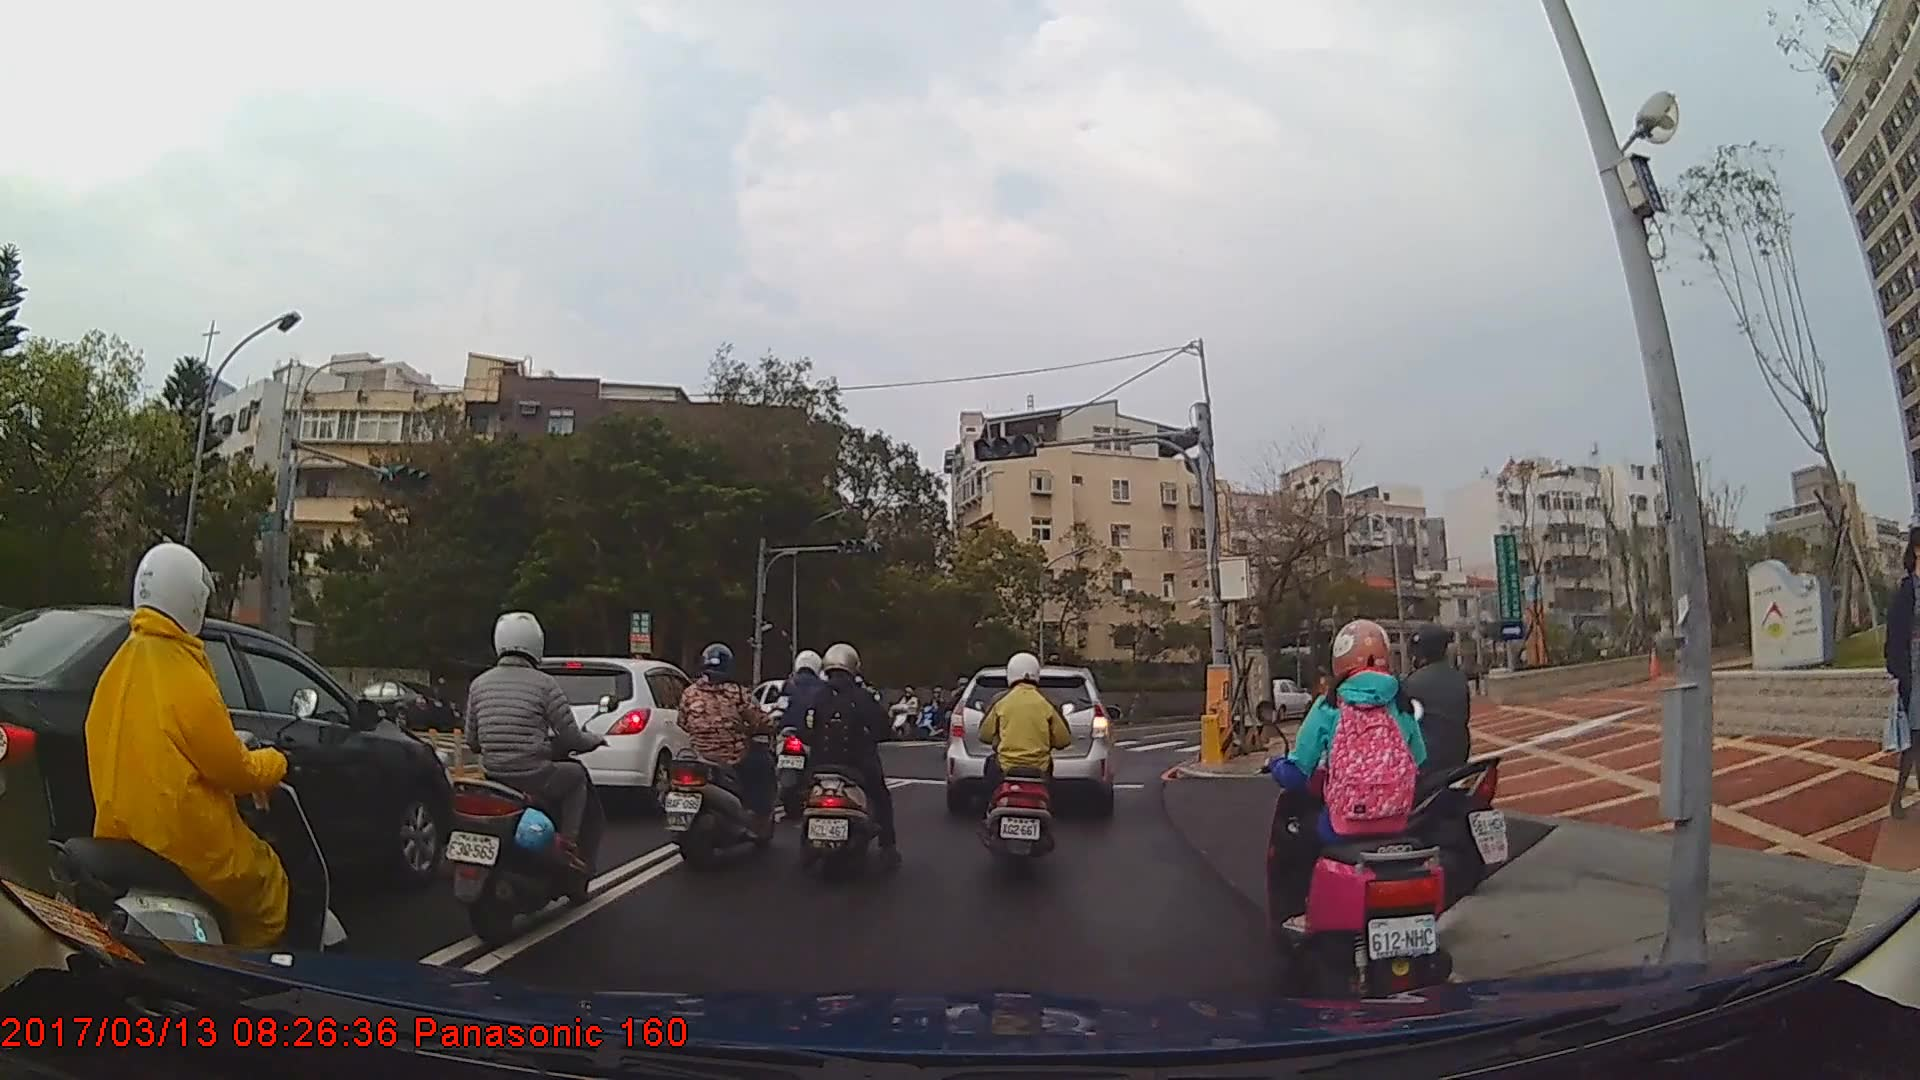rider: (45, 541, 352, 1010), (1261, 619, 1444, 990), (439, 607, 614, 953), (1352, 622, 1510, 893), (666, 642, 787, 876), (790, 640, 904, 885), (981, 650, 1076, 872), (768, 649, 839, 818), (950, 670, 1008, 767)
vehicle: (0, 603, 459, 952), (501, 655, 735, 817), (940, 665, 1116, 817), (345, 680, 455, 731), (1255, 677, 1309, 720)
